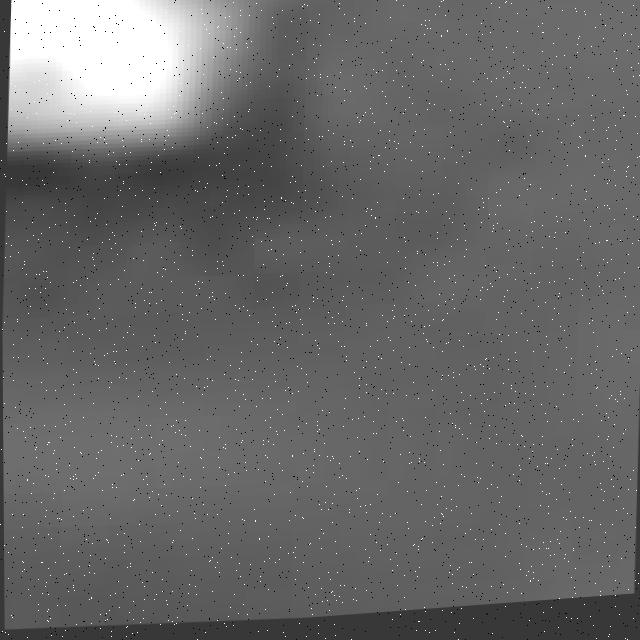person: (5, 1, 333, 212)
